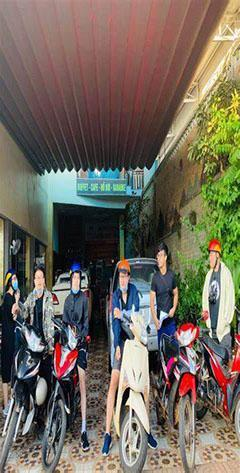motorcycle: (94, 305, 158, 472), (157, 306, 220, 467), (42, 310, 92, 473), (0, 314, 50, 470)
